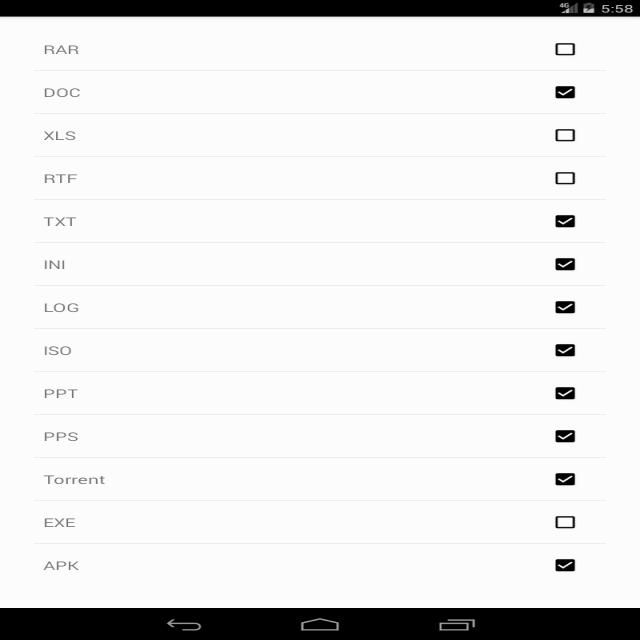CheckBox: (543, 207, 585, 235), (546, 512, 586, 536), (547, 252, 586, 276), (547, 123, 586, 146), (544, 39, 584, 61), (546, 468, 582, 492), (544, 554, 586, 574), (550, 168, 586, 190), (546, 382, 582, 403), (546, 83, 580, 105), (547, 342, 584, 362), (552, 423, 580, 444), (550, 300, 579, 319)
TextView: (33, 470, 115, 490), (34, 553, 91, 577), (36, 124, 84, 148), (34, 36, 84, 58), (36, 212, 84, 234), (36, 298, 86, 318), (35, 385, 81, 402)
